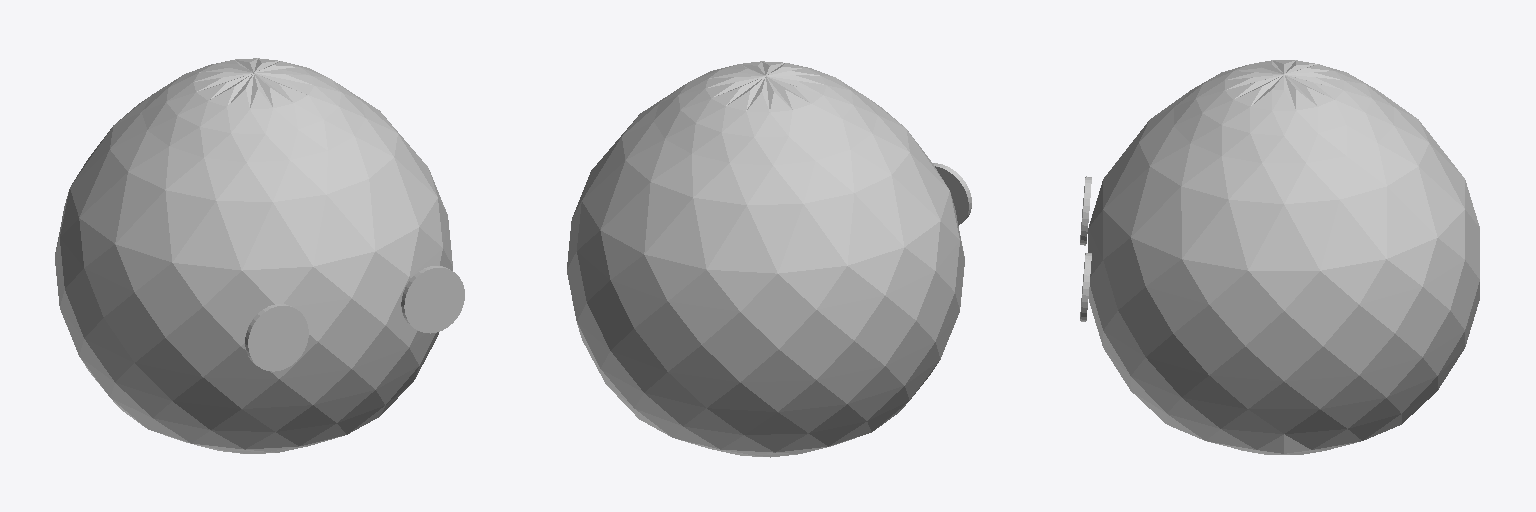
Rendered from Prot-Slime 3d.obj.
3 views of the same model, side by side, from view 1: azimuth 30°, elevation 25°; view 2: azimuth 150°, elevation 25°; view 3: azimuth 270°, elevation 25° (orthographic).
Parts seen in each view (by area): view 1: Sphere; view 2: Sphere; view 3: Sphere.
Boxes of the visible parts, <box> form: Sphere: <box>55,58,464,453</box>; Sphere: <box>567,61,971,457</box>; Sphere: <box>1080,60,1479,454</box>.
Bounding box in the file's own units: 2 × 2.04 × 2.04.